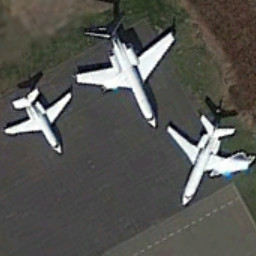Airplane: (69, 9, 180, 133), (164, 100, 256, 210), (1, 83, 80, 159)
